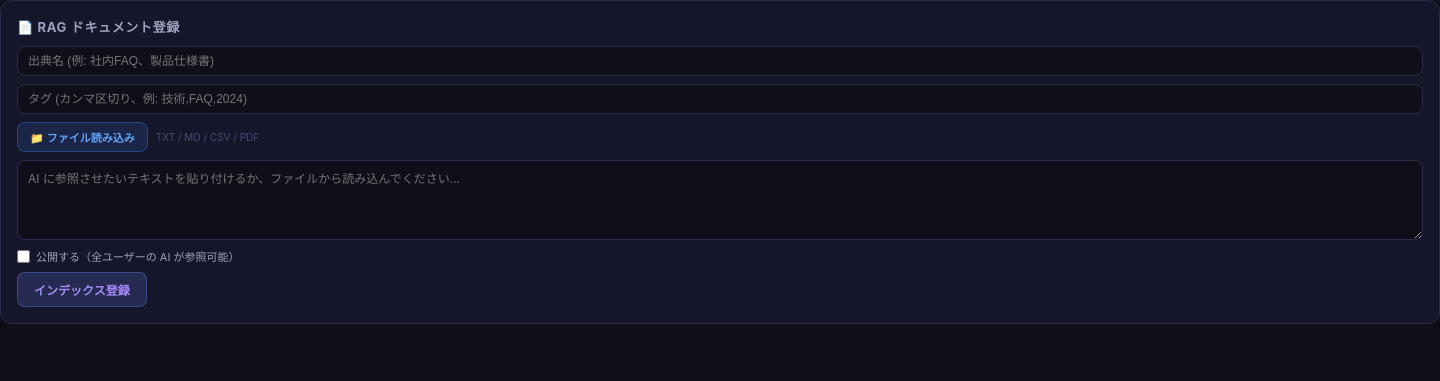
DocumentUpload › API エラー時にエラーメッセージを表示する
In the text box with placeholder "AI に参照させたいテキストを貼り付けるか、ファイルから読み込んでください...": [720, 200] box [17, 160, 1423, 240], type "短すぎ"
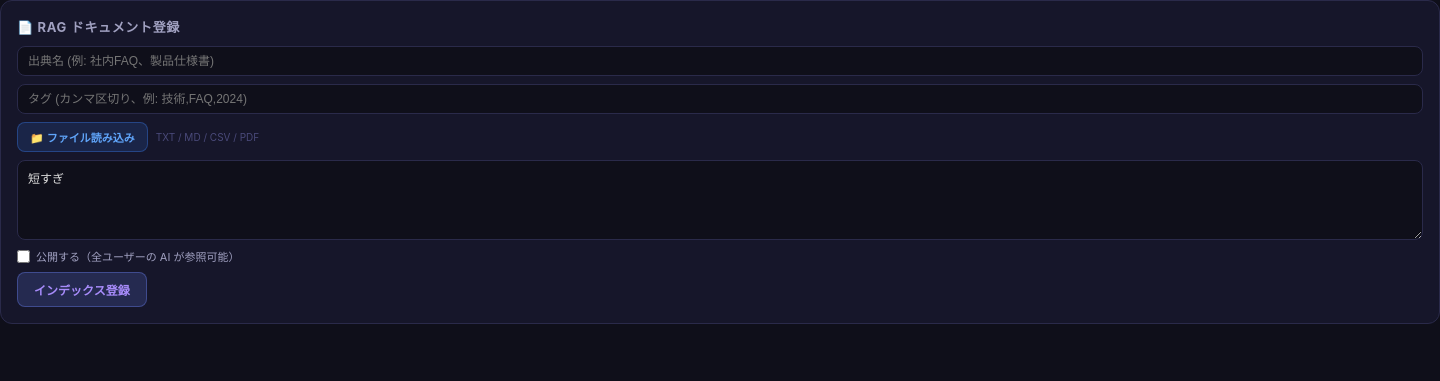
Click the button "インデックス登録": [82, 290] box [17, 272, 147, 307]
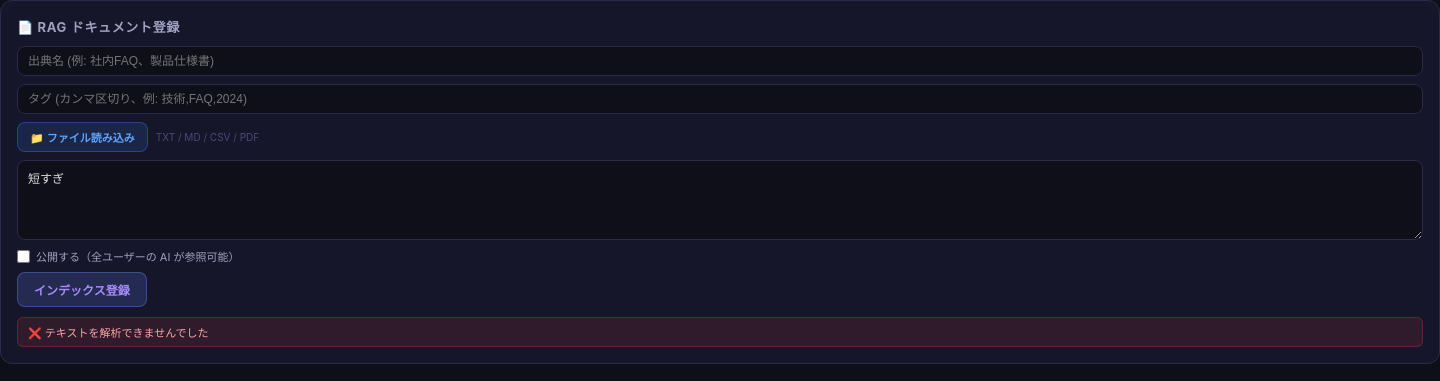
Expected: the text "❌ テキストを解析できませんでした" is shown, [17, 317, 1423, 347]
